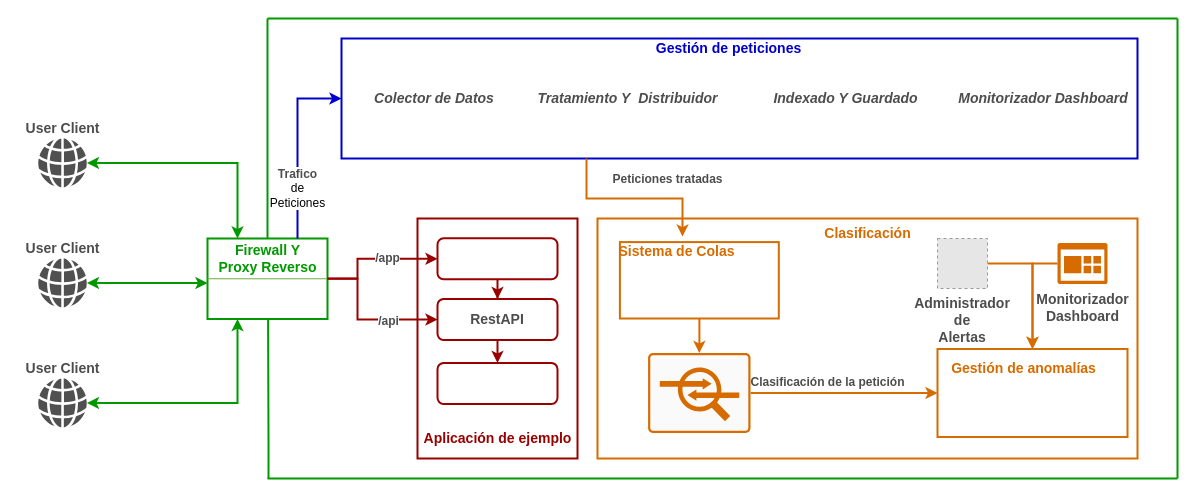
This 1196x497 diagram has some shape labels left out. Grey dashed boxes stand in for pictures. Each missing label, with the box of its shape:
Apollon: (647, 352, 750, 433)
Database: (436, 362, 558, 404)
WebApp: (436, 237, 558, 280)
